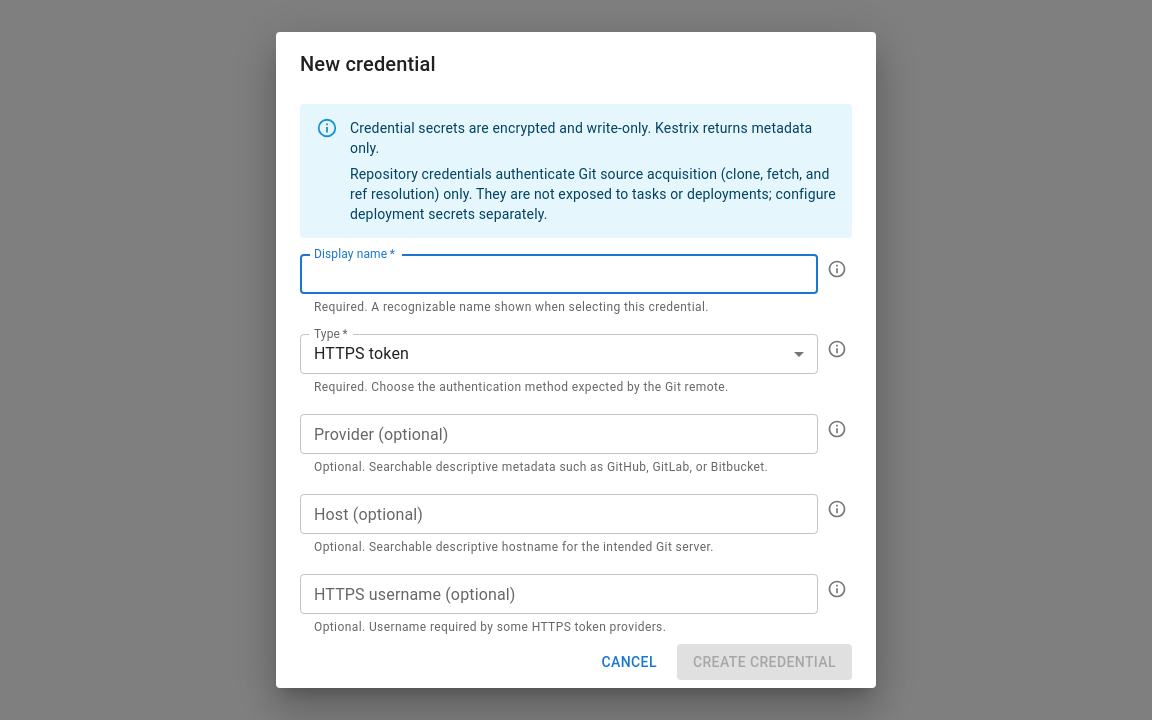
Scenario: CredentialFormDialog › selects SSH with the keyboard
Click the dropdown named "Type" at (362, 354), box [314, 344, 409, 364]
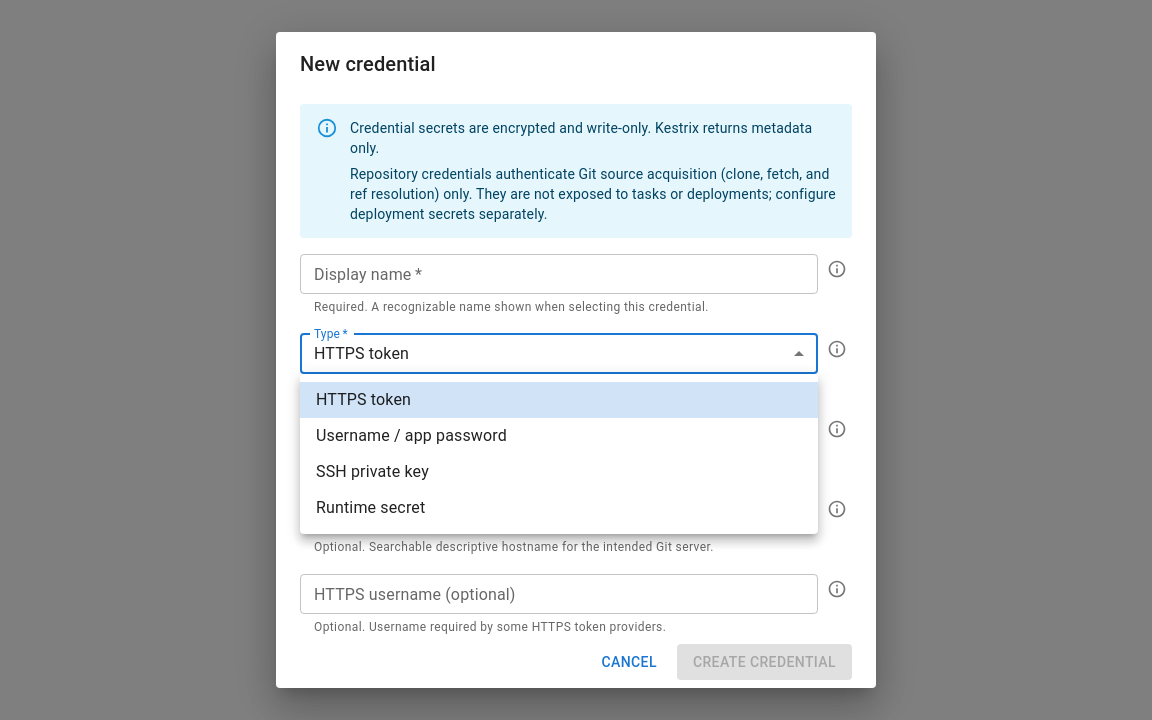
Press Arrowdown Arrowdown Enter
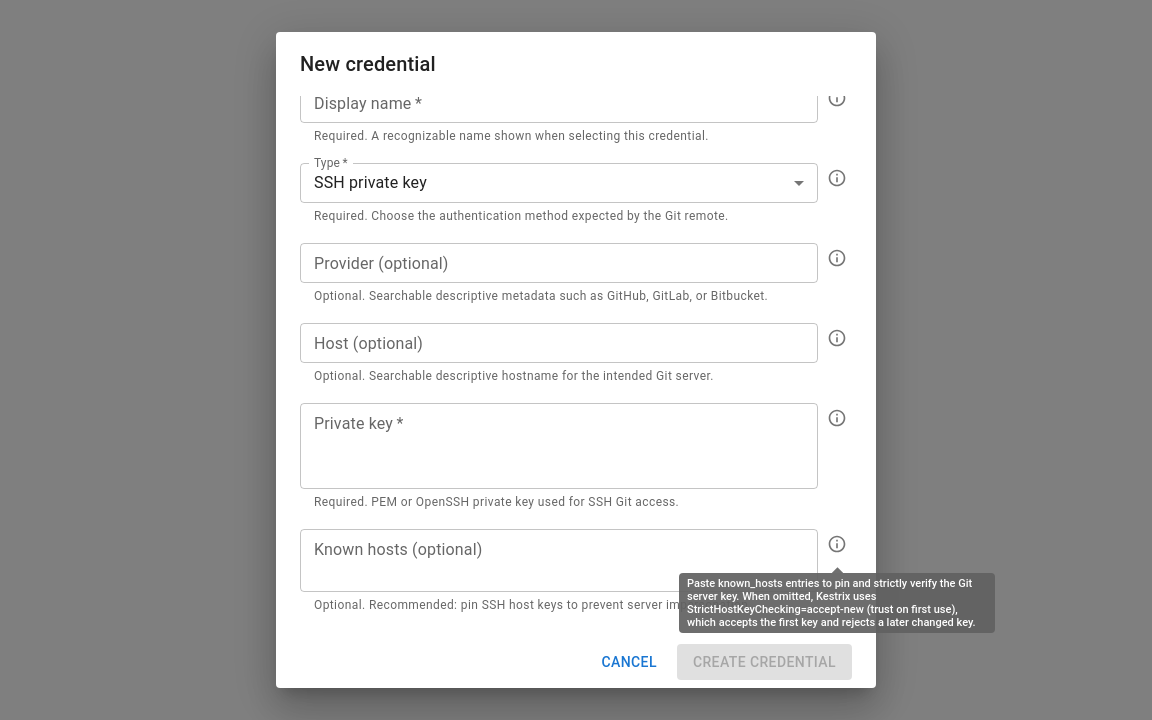
Expected: the text box labelled "Private key *" is shown, [314, 411, 804, 480]
Expected: the text box labelled "Known hosts (optional)" is shown, [314, 537, 804, 583]
Expected: the dropdown labelled "token" is gone
